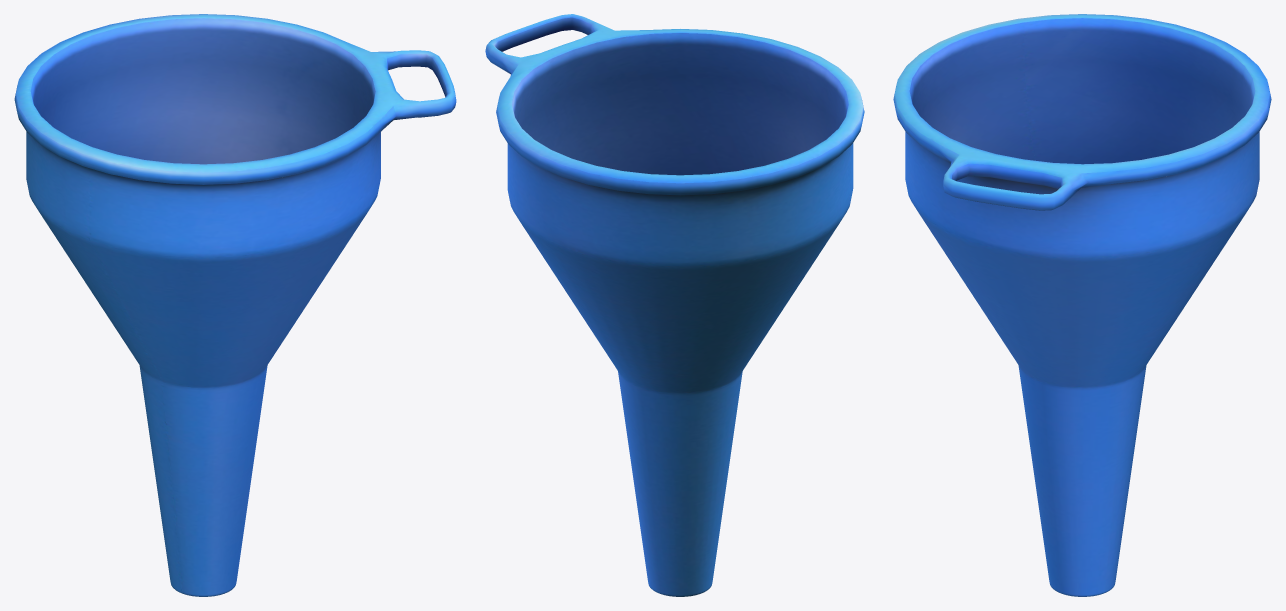
File: funnel.glb
The picture shows the model from 3 angles, left to right: view 1: azimuth 30°, elevation 25°; view 2: azimuth 150°, elevation 25°; view 3: azimuth 270°, elevation 25°; orthographic projection. The views are drawn at different scales.
Visible parts, largest first — view 1: funnel; view 2: funnel; view 3: funnel.
Part boxes in pixels (x1,y1,x2,y2): funnel: [14, 14, 456, 596]; funnel: [485, 14, 864, 596]; funnel: [893, 14, 1271, 596].
Size of the model in its own units: 0.093 by 0.1152 by 0.0802.
1 material, 1 textured.
